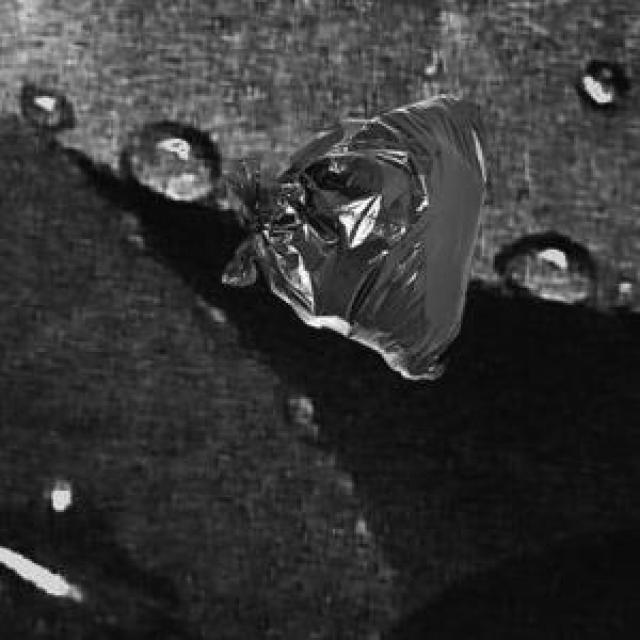miscellaneous trash: (218, 92, 486, 376)
